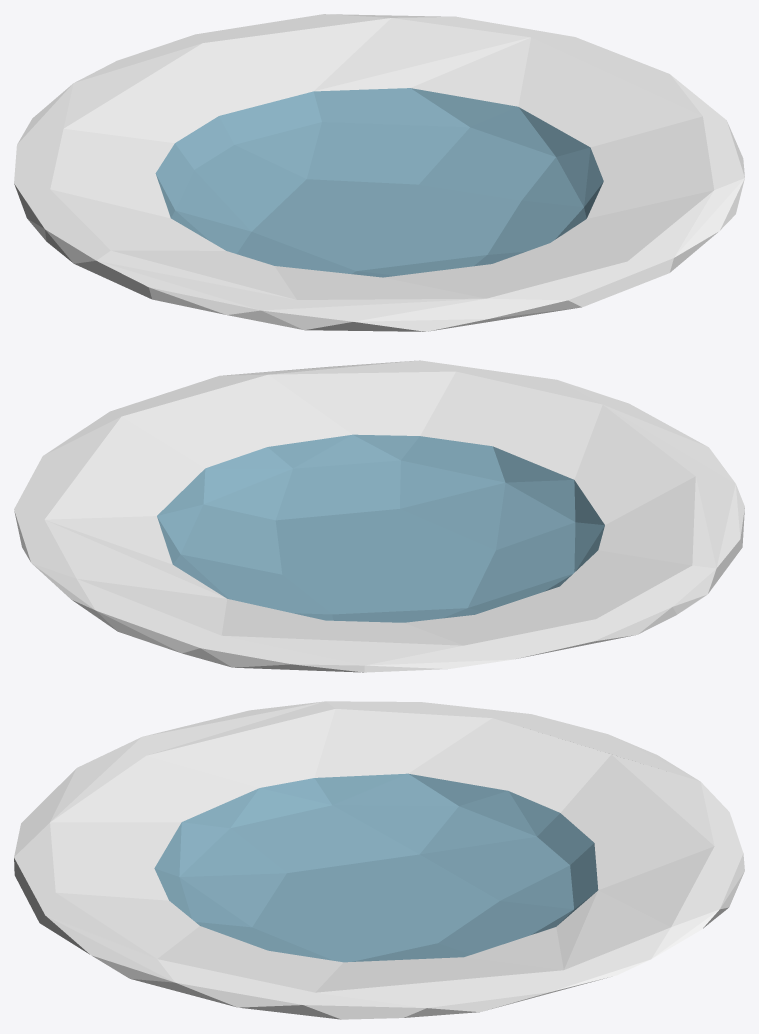
File: PlateBig02White.fbx
3 renders of one model, top to bottom at view 1: azimuth 30°, elevation 25°; view 2: azimuth 150°, elevation 25°; view 3: azimuth 270°, elevation 25°, orthographic.
Parts seen in each view (by area): view 1: PlateBig02LowPolyWhite; view 2: PlateBig02LowPolyWhite; view 3: PlateBig02LowPolyWhite.
Boxes of the visible parts, x1=… form: PlateBig02LowPolyWhite: x1=14, y1=14, x2=744, y2=331; PlateBig02LowPolyWhite: x1=14, y1=360, x2=744, y2=672; PlateBig02LowPolyWhite: x1=14, y1=701, x2=744, y2=1019.
Size of the model in its own units: 28.86 by 2.82 by 28.91.
